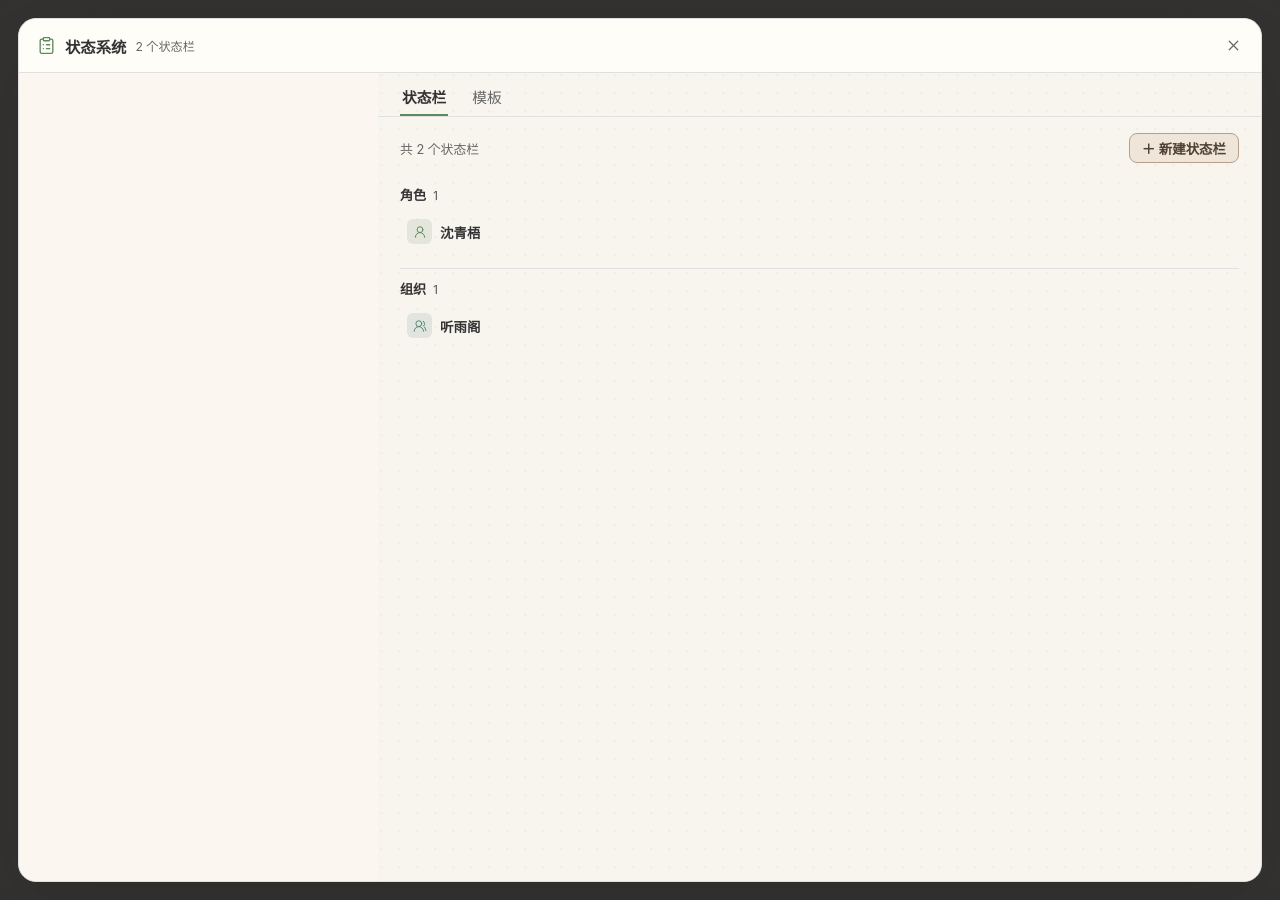
Test case: ChatStatusSystemPanel › 打开即加载：折叠态列表按名字列出，下钻后按模板渲染字段（含 binding 穿透值与 ref 引用）
Check: the element named "星依状态协作栏" is shown, box [19,73,379,881]
Check: the element with class "ssp-xingyi__host" is shown, box [19,73,378,881]
Click the button with aria-label "查看状态栏 沈青梧": (484, 232) [401,214,567,249]
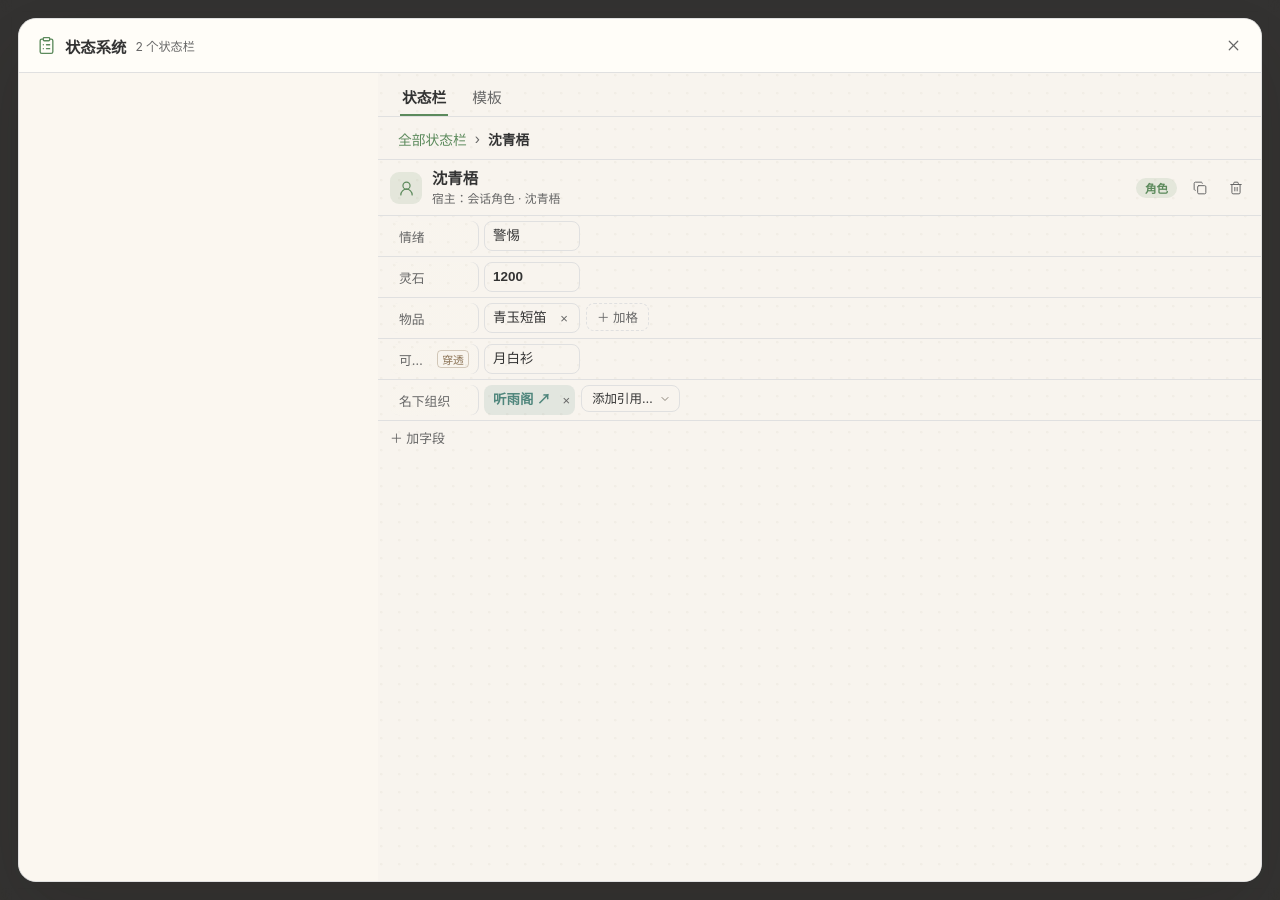
Check: the number of elements with class "ssp-card" is 1, box [378,160,1261,881]
Check: the button with aria-label "沈青梧 情绪 值格" reads "警惕", box [485,222,579,250]
Check: the button named "沈青梧 灵石 值格" reads "1200", box [485,263,579,291]
